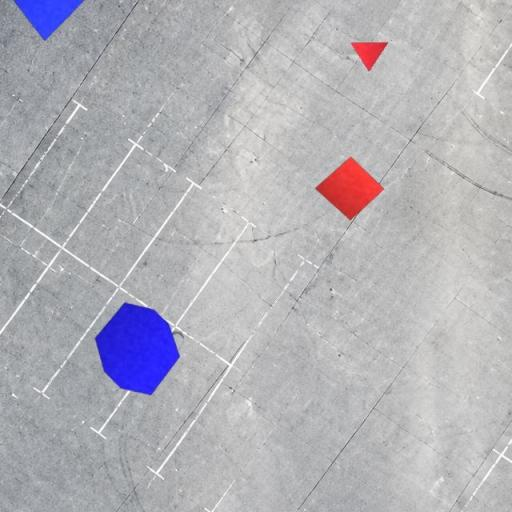BLUE_SQUARE: (0, 0, 110, 41)
RED_SQUARE: (314, 156, 385, 221)
